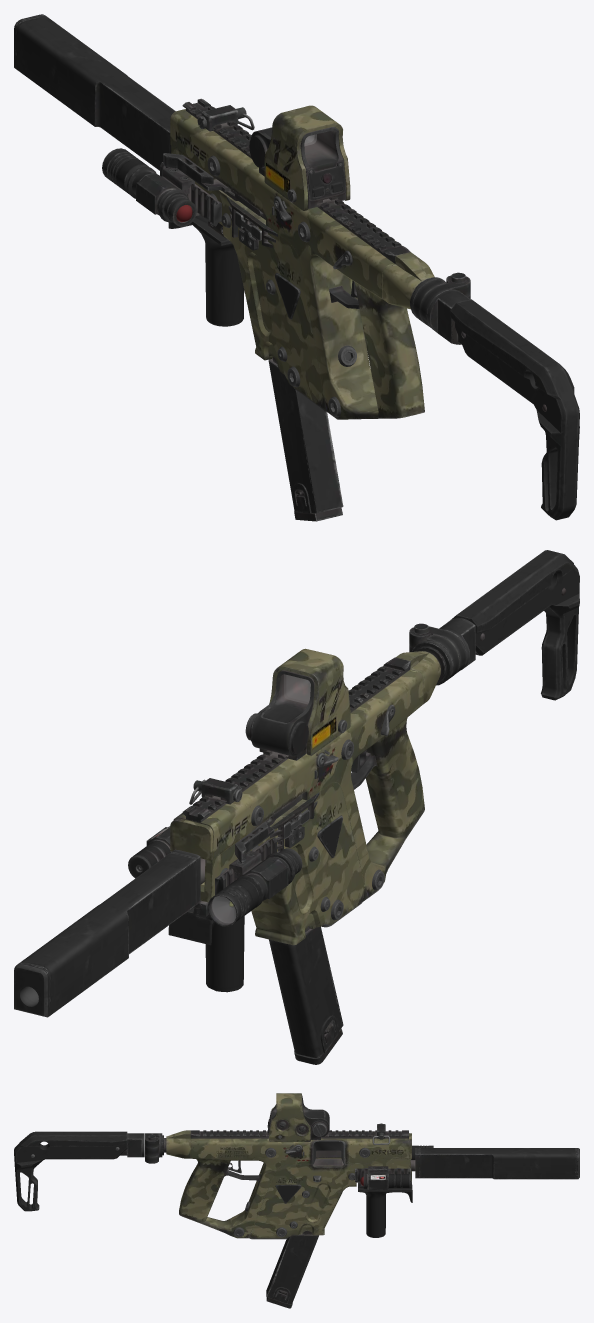
File: vector.glb
3 renders of one model, top to bottom at view 1: azimuth 30°, elevation 25°; view 2: azimuth 150°, elevation 25°; view 3: azimuth 270°, elevation 25°, orthographic. The views are drawn at different scales.
Parts seen in each view (by area): view 1: Kriss_Vector_LOW_Kriss_Vector_0; view 2: Kriss_Vector_LOW_Kriss_Vector_0, Glass_LOW_Glass_0; view 3: Kriss_Vector_LOW_Kriss_Vector_0.
Boxes of the visible parts, x1,y1,x2,y2 form: Kriss_Vector_LOW_Kriss_Vector_0: (14, 14, 579, 521); Kriss_Vector_LOW_Kriss_Vector_0: (14, 550, 579, 1064); Glass_LOW_Glass_0: (212, 674, 310, 923); Kriss_Vector_LOW_Kriss_Vector_0: (14, 1093, 579, 1308).
Bounding box in the file's own units: 0.1004 × 0.2846 × 0.7.
2 materials, 1 textured.
